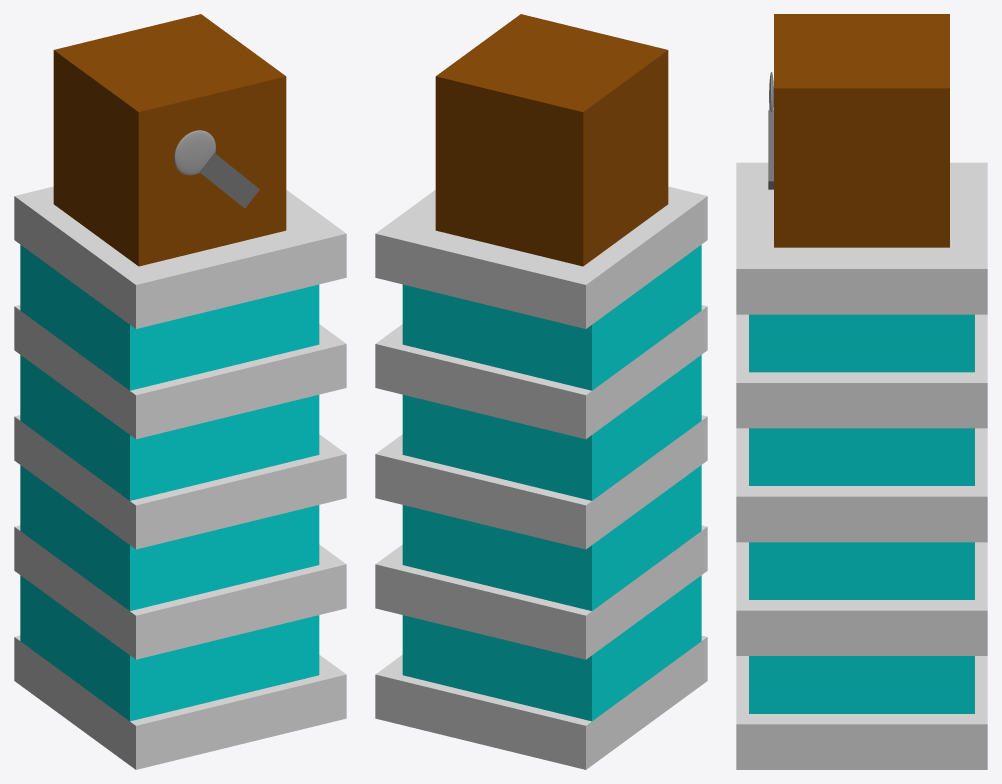
Rendered from karaoke.fbx.
3 views of the same model, side by side, from view 1: azimuth 30°, elevation 25°; view 2: azimuth 150°, elevation 25°; view 3: azimuth 270°, elevation 25° (orthographic). The views are drawn at different scales.
Visible parts, largest first — view 1: pCube10, pCube9, pCube8, pCube2, pCube4, pCube6, pCube7, pCube3, pCube5, pCube1, pCube11, pSphere1; view 2: pCube10, pCube9, pCube8, pCube2, pCube4, pCube6, pCube7, pCube3, pCube5, pCube1; view 3: pCube10, pCube9, pCube5, pCube7, pCube1, pCube3, pCube8, pCube2, pCube4, pCube6, pCube11.
Boxes of the visible parts, x1=… form: pCube10: x1=53, y1=14, x2=286, y2=266; pCube9: x1=14, y1=186, x2=346, y2=328; pCube8: x1=20, y1=245, x2=319, y2=390; pCube2: x1=20, y1=575, x2=319, y2=721; pCube4: x1=20, y1=465, x2=319, y2=610; pCube6: x1=20, y1=355, x2=319, y2=500; pCube7: x1=14, y1=305, x2=346, y2=439; pCube3: x1=14, y1=525, x2=346, y2=659; pCube5: x1=14, y1=415, x2=346, y2=549; pCube1: x1=14, y1=635, x2=346, y2=769; pCube11: x1=200, y1=153, x2=259, y2=208; pSphere1: x1=174, y1=130, x2=216, y2=175; pCube10: x1=435, y1=14, x2=668, y2=266; pCube9: x1=375, y1=186, x2=707, y2=328; pCube8: x1=402, y1=245, x2=701, y2=390; pCube2: x1=402, y1=575, x2=701, y2=721; pCube4: x1=402, y1=465, x2=701, y2=610; pCube6: x1=402, y1=355, x2=701, y2=500; pCube7: x1=375, y1=305, x2=707, y2=439; pCube3: x1=375, y1=525, x2=707, y2=659; pCube5: x1=375, y1=415, x2=707, y2=549; pCube1: x1=375, y1=635, x2=707, y2=769; pCube10: x1=774, y1=14, x2=949, y2=247; pCube9: x1=736, y1=162, x2=987, y2=314; pCube5: x1=736, y1=428, x2=987, y2=542; pCube7: x1=736, y1=314, x2=987, y2=428; pCube1: x1=736, y1=656, x2=987, y2=769; pCube3: x1=736, y1=542, x2=987, y2=655; pCube8: x1=749, y1=314, x2=974, y2=372; pCube2: x1=749, y1=656, x2=974, y2=713; pCube4: x1=749, y1=542, x2=974, y2=599; pCube6: x1=749, y1=428, x2=974, y2=485; pCube11: x1=768, y1=110, x2=773, y2=189.
Bounding box in the file's own units: 400 × 1160 × 400.
